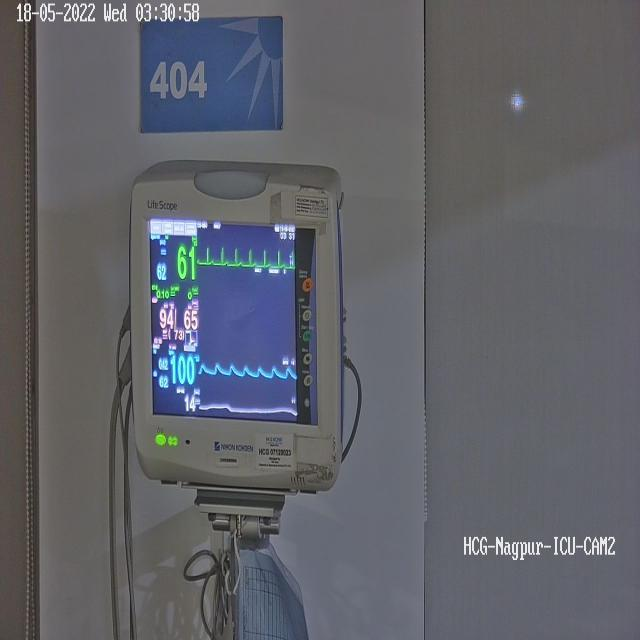Monitor: (128, 158, 348, 640)
